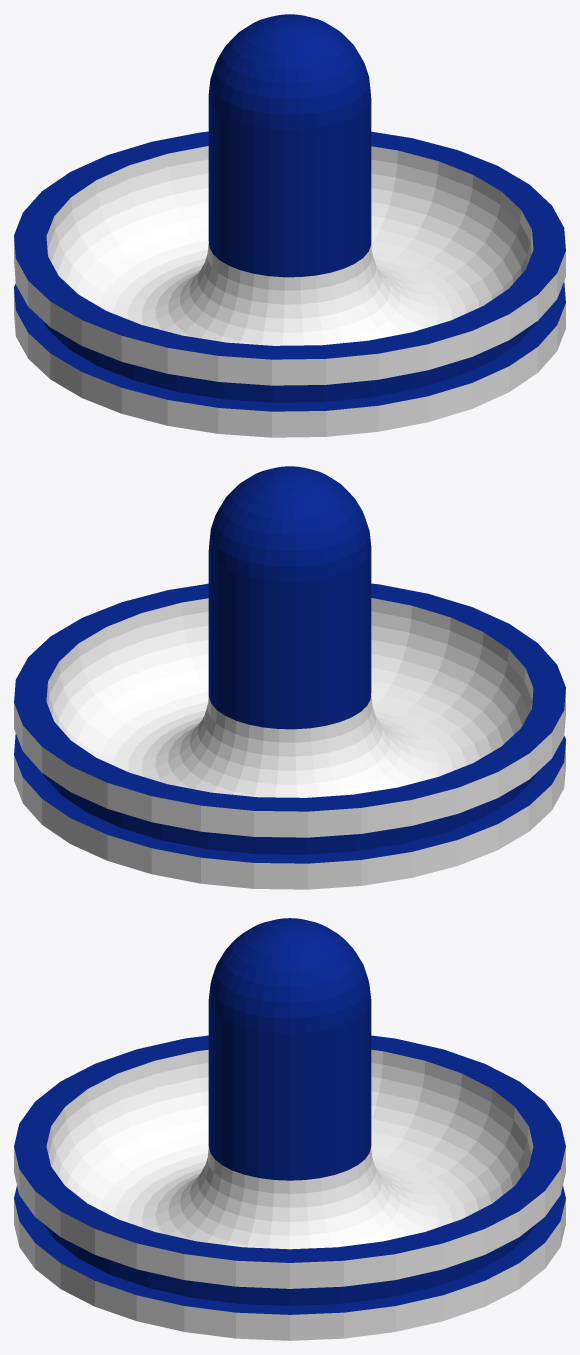
The model's file is paddle_blue.obj.
The picture shows the model from 3 angles, top to bottom: view 1: azimuth 30°, elevation 25°; view 2: azimuth 150°, elevation 25°; view 3: azimuth 270°, elevation 25°; orthographic projection.
Visible parts, largest first — view 1: Sphere; view 2: Sphere; view 3: Sphere.
Boxes of the visible parts, x1,y1,x2,y2 form: Sphere: (14, 14, 565, 437); Sphere: (14, 466, 565, 889); Sphere: (14, 918, 565, 1340).
Size of the model in its own units: 6.8 by 4.06 by 6.8.
Materials: 1 (1 with a texture image).
